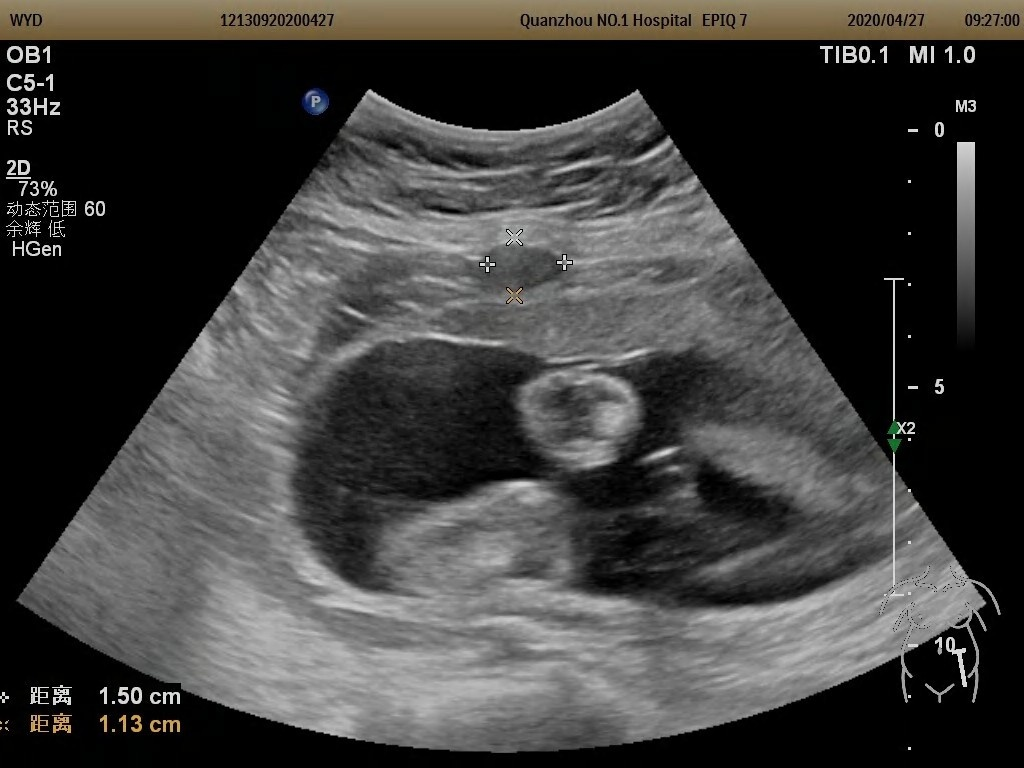肌瘤: (475, 245, 561, 290)
